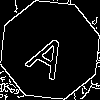A: (25, 25, 77, 81)
